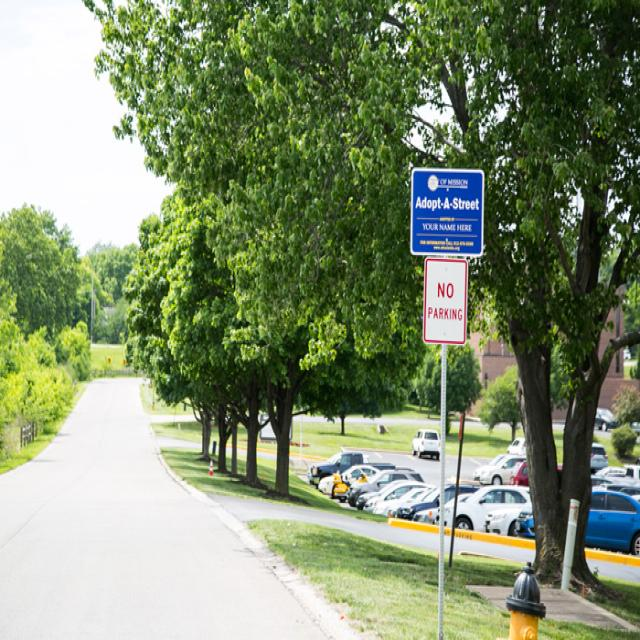Clean road: (0, 354, 396, 640)
